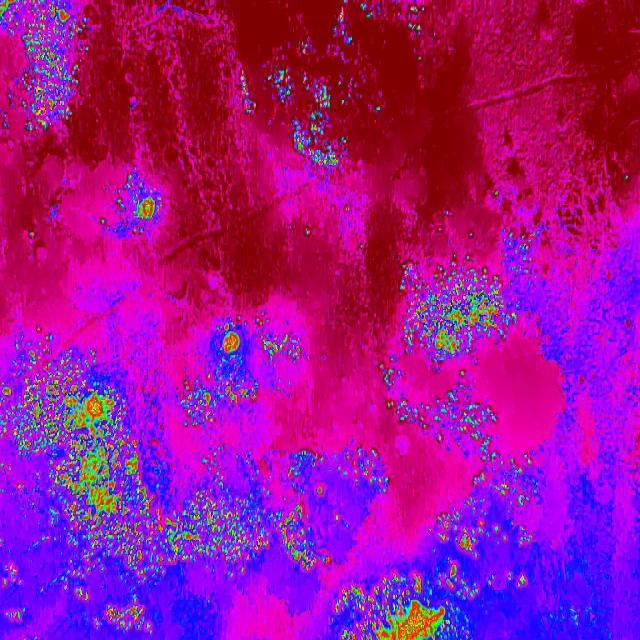fire: (0, 306, 319, 640), (430, 453, 542, 592), (399, 254, 524, 367), (236, 64, 368, 168), (0, 0, 97, 136), (332, 570, 486, 640), (386, 383, 498, 462), (320, 443, 388, 568), (97, 168, 161, 242)
